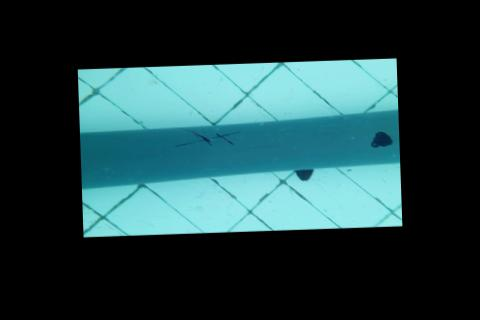kebocoran: (368, 129, 394, 147)
keretakan: (172, 127, 240, 147)
